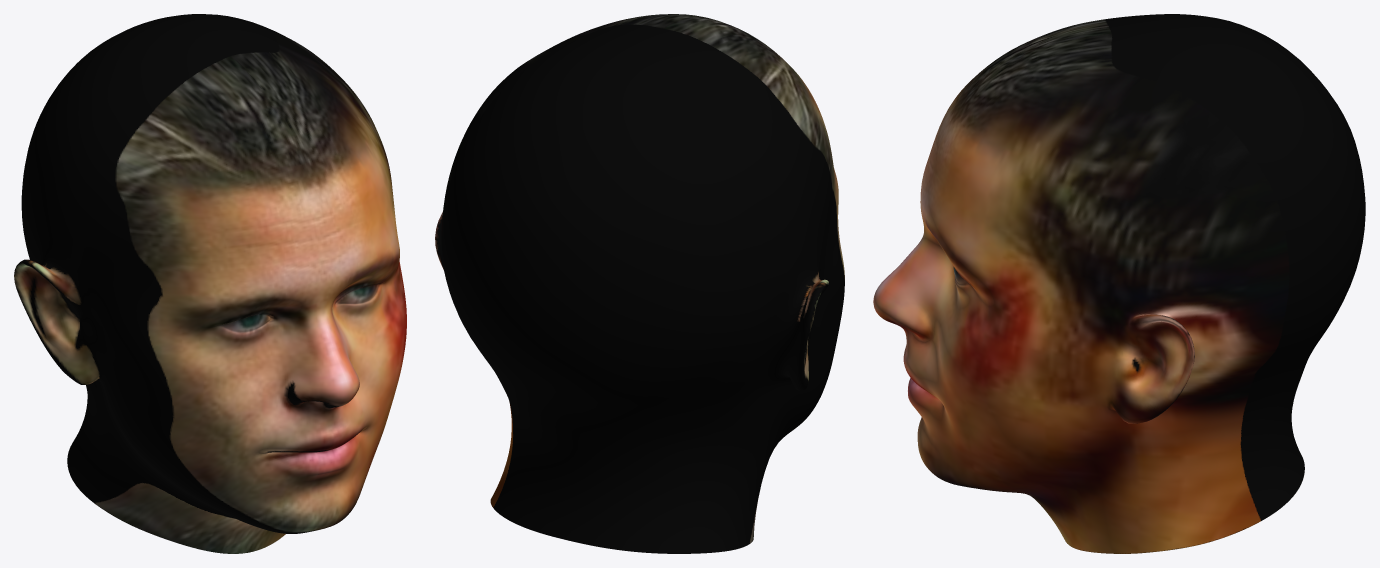
3 renders of one model, left to right at view 1: azimuth 30°, elevation 25°; view 2: azimuth 150°, elevation 25°; view 3: azimuth 270°, elevation 25°, orthographic. The views are drawn at different scales.
Parts seen in each view (by area): view 1: FaceBuilderHead; view 2: FaceBuilderHead; view 3: FaceBuilderHead.
Boxes of the visible parts, box(x1,y1,x2,y2) form: FaceBuilderHead: box(14, 14, 406, 553); FaceBuilderHead: box(435, 14, 844, 553); FaceBuilderHead: box(873, 14, 1365, 553).
Bounding box in the file's own units: 1.9 × 2.45 × 2.17.
Materials: 1 (1 with a texture image).
